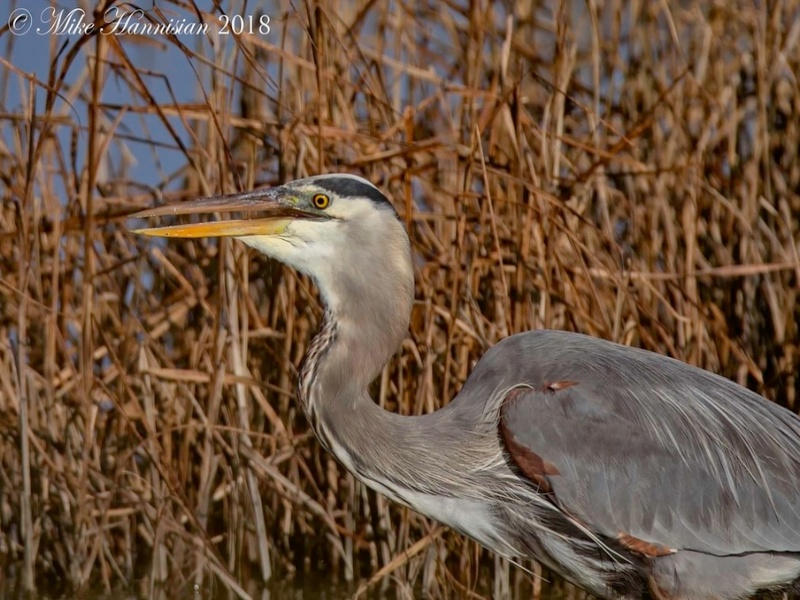heron: (128, 170, 799, 595)
